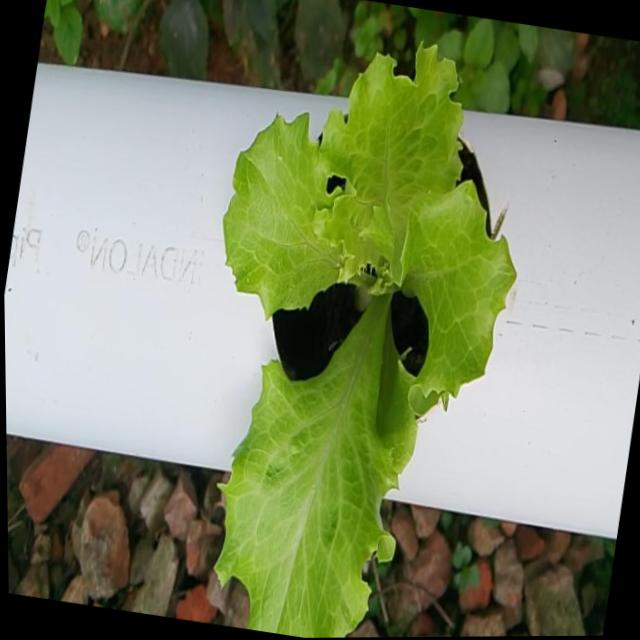Baby: (213, 45, 513, 638)
